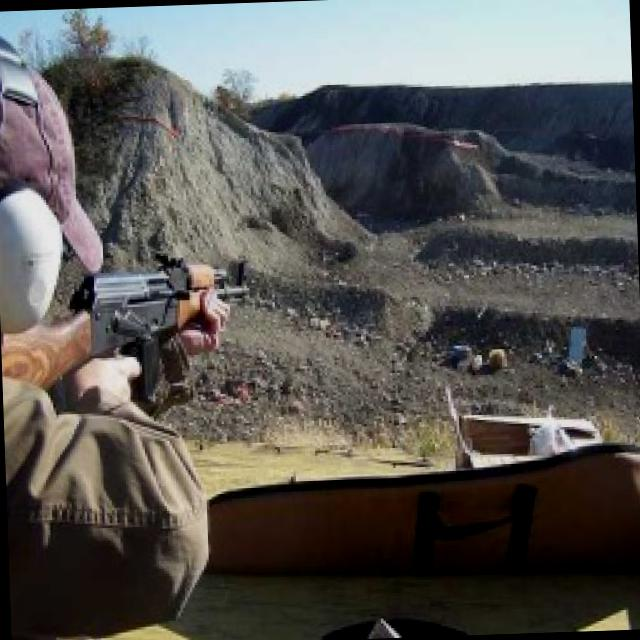long weapon: (0, 230, 262, 402)
